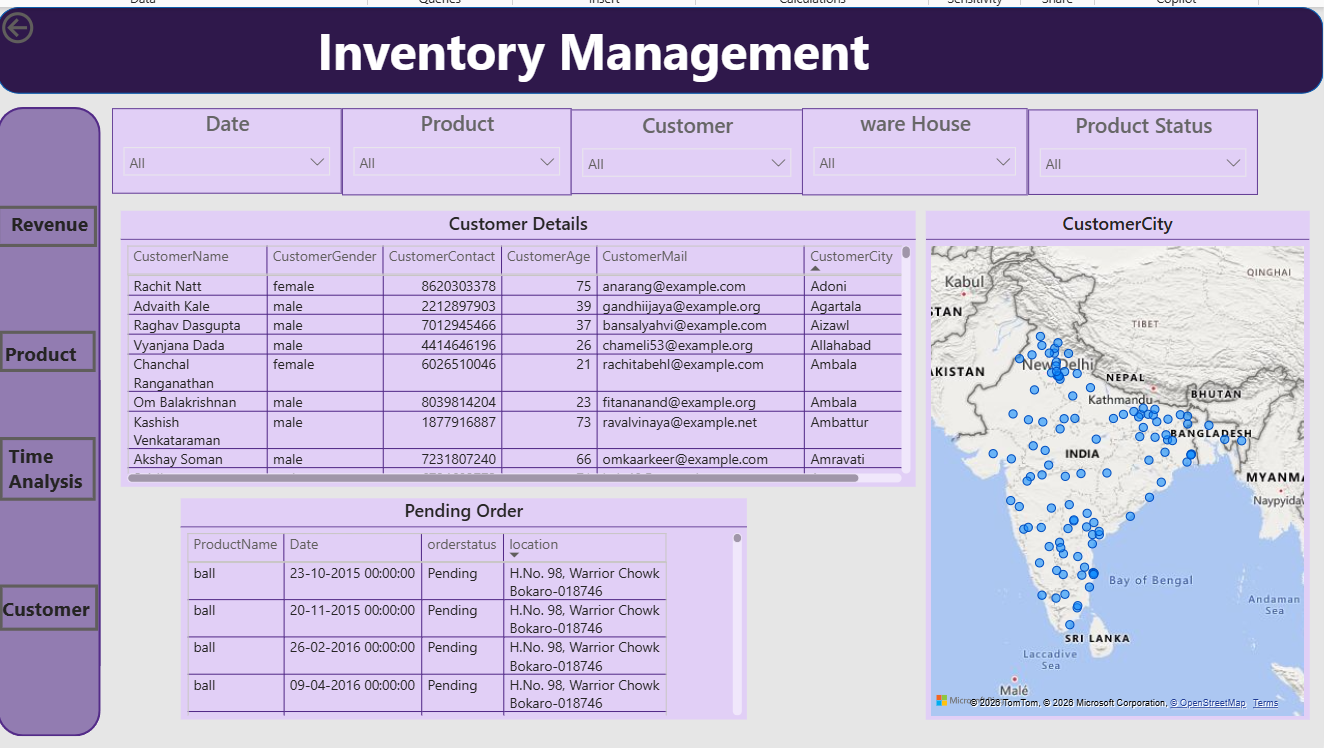

What the dashboard file says about the page in this screenshot:
{"tool":"powerbi","page":{"name":"Page 4","canvas":[1280,720],"ordinal":3},"visuals":[{"type":"actionButton","box":[0,191.8,96.5,39.8],"z":0,"group":"g1"},{"type":"tableEx","title":"Customer Details","fields":{"Values":["dim_customer.CustomerName","dim_customer.CustomerGender","dim_customer.CustomerContact","dim_customer.CustomerAge","dim_customer.CustomerMail","dim_customer.CustomerCity"]},"box":[119.4,196.6,767.3,266.6],"z":0},{"type":"textbox","box":[2.7,316.9,88.1,38.6],"z":0,"group":"g3"},{"type":"actionButton","box":[2.4,415,92.9,61.5],"z":0,"group":"g2"},{"type":"actionButton","box":[2.4,557.4,95.3,44.6],"z":0,"group":"g4"},{"type":"shape","box":[0,0,1280.3,83.7],"z":1000},{"type":"textbox","box":[8.4,191.8,88.1,38.6],"z":1000,"group":"g1"},{"type":"actionButton","box":[2.4,312.5,92.9,39.8],"z":1000,"group":"g3"},{"type":"textbox","box":[6,415,90.5,61.5],"z":1000,"group":"g2"},{"type":"textbox","box":[0,563.3,103.8,38.6],"z":1000,"group":"g4"},{"type":"textbox","box":[303.8,3.8,563.8,73.8],"z":2000},{"type":"shape","box":[0,96.2,100,607.5],"z":3000},{"type":"slicer","title":"Date","fields":{"Values":["dim_date.Date"]},"box":[111.2,97.5,221.2,82.5],"z":8000},{"type":"slicer","title":"Product","fields":{"Values":["dim_product.ProductName"]},"box":[332.5,97.5,221.2,83.8],"z":9000},{"type":"slicer","title":"Customer","fields":{"Values":["dim_customer.CustomerName"]},"box":[553.8,98.8,223.8,81.2],"z":10000},{"type":"slicer","title":"ware House","fields":{"Values":["dim_warehouse.warehousename"]},"box":[777.5,97.5,217.5,83.8],"z":11000},{"type":"slicer","title":"Product Status","fields":{"Values":["dim_productstatus.productstatus"]},"box":[995,98.8,221.2,82.5],"z":12000},{"type":"map","fields":{"Category":["dim_customer.CustomerCity"]},"box":[896.4,196.6,370.4,491],"z":13000},{"type":"tableEx","title":"Pending Order","fields":{"Values":["dim_product.ProductName","dim_date.Date","dim_orderstatus.orderstatus","dim_location.location"]},"box":[177.3,474.1,546.5,213.5],"z":14000},{"type":"actionButton","box":[0,0,100,40],"z":15000},{"type":"group","id":"g1","title":"Group 1","box":[0,191.8,96.5,39.8],"z":15001},{"type":"group","id":"g2","title":"Group 4","box":[2.4,415,94.1,61.5],"z":15002},{"type":"group","id":"g3","title":"Group 2","box":[2.4,312.5,92.9,43.4],"z":15003},{"type":"group","id":"g4","title":"Group 3","box":[0,557.4,103.8,44.6],"z":15004}]}

Visuals, with their boxes on the page's 1280x720 design canvas (x1, y1, x2, y2). These are canvas units, not pixel positions in the 1324x748 screenshot, which may show the page scaled, cropped or inside an application window:
actionButton: pyautogui.locateOnScreen(0, 192, 96, 232)
"Customer Details" tableEx: pyautogui.locateOnScreen(119, 197, 887, 463)
textbox: pyautogui.locateOnScreen(3, 317, 91, 356)
actionButton: pyautogui.locateOnScreen(2, 415, 95, 476)
actionButton: pyautogui.locateOnScreen(2, 557, 98, 602)
shape: pyautogui.locateOnScreen(0, 0, 1280, 84)
textbox: pyautogui.locateOnScreen(8, 192, 96, 230)
actionButton: pyautogui.locateOnScreen(2, 312, 95, 352)
textbox: pyautogui.locateOnScreen(6, 415, 96, 476)
textbox: pyautogui.locateOnScreen(0, 563, 104, 602)
textbox: pyautogui.locateOnScreen(304, 4, 868, 78)
shape: pyautogui.locateOnScreen(0, 96, 100, 704)
"Date" slicer: pyautogui.locateOnScreen(111, 98, 332, 180)
"Product" slicer: pyautogui.locateOnScreen(332, 98, 554, 181)
"Customer" slicer: pyautogui.locateOnScreen(554, 99, 778, 180)
"ware House" slicer: pyautogui.locateOnScreen(778, 98, 995, 181)
"Product Status" slicer: pyautogui.locateOnScreen(995, 99, 1216, 181)
map - dim_customer.CustomerCity: pyautogui.locateOnScreen(896, 197, 1267, 688)
"Pending Order" tableEx: pyautogui.locateOnScreen(177, 474, 724, 688)
actionButton: pyautogui.locateOnScreen(0, 0, 100, 40)
"Group 1" group: pyautogui.locateOnScreen(0, 192, 96, 232)
"Group 4" group: pyautogui.locateOnScreen(2, 415, 96, 476)
"Group 2" group: pyautogui.locateOnScreen(2, 312, 95, 356)
"Group 3" group: pyautogui.locateOnScreen(0, 557, 104, 602)
